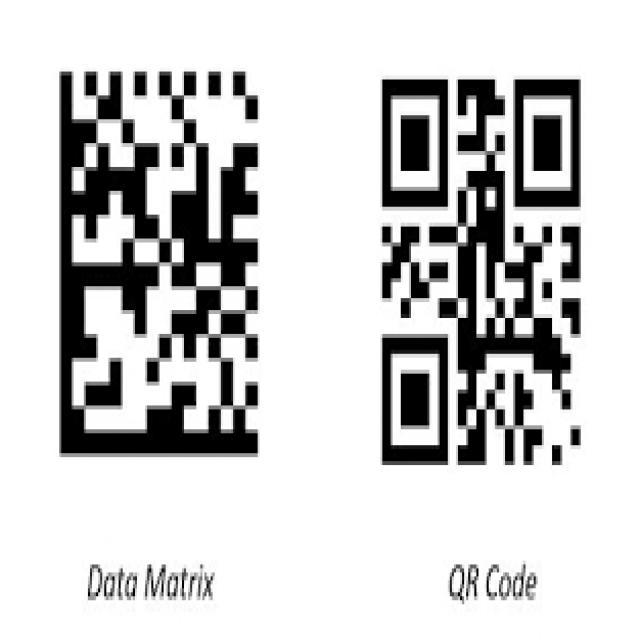Data-Matrix: (53, 60, 266, 469)
